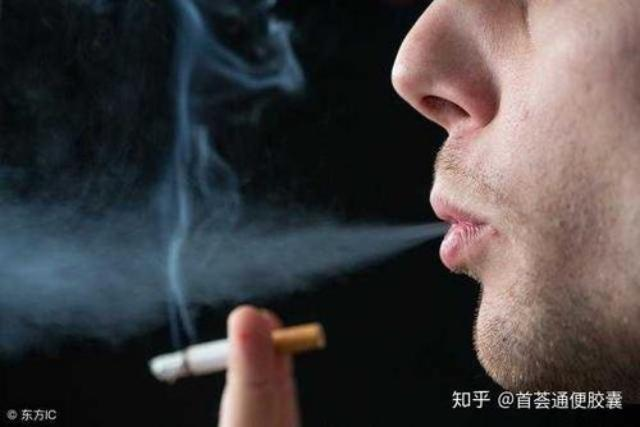Cigarette: (150, 323, 328, 385)
